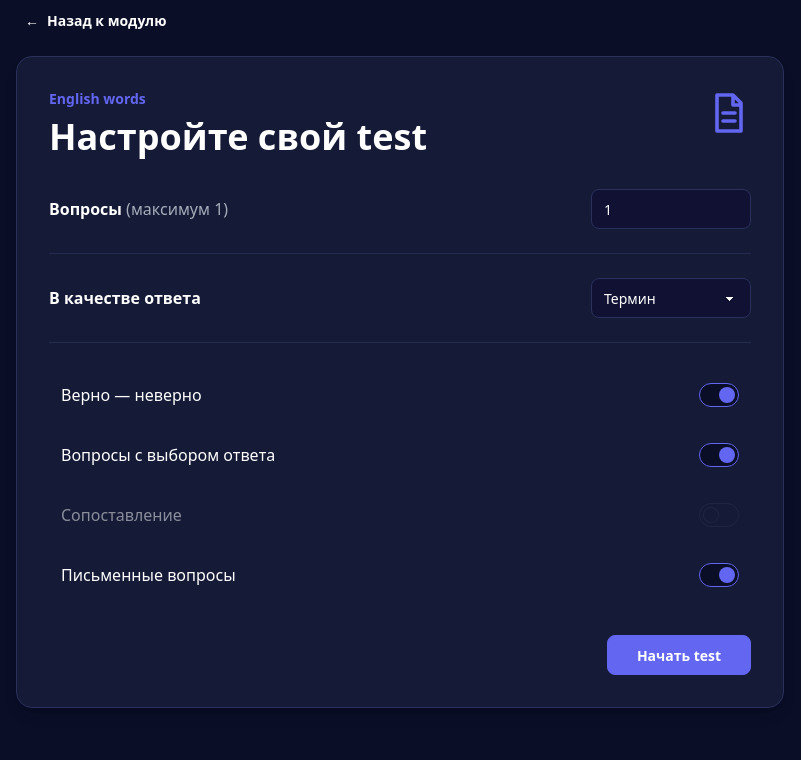
it: TestExercise › requires at least one enabled question type
The width and height of the screenshot is (801, 760).
Check: the heading "Настройте свой test" is shown, box [49, 117, 427, 157]
Click the checkbox labelled "Верно — неверно" at (719, 395), box [699, 383, 739, 407]
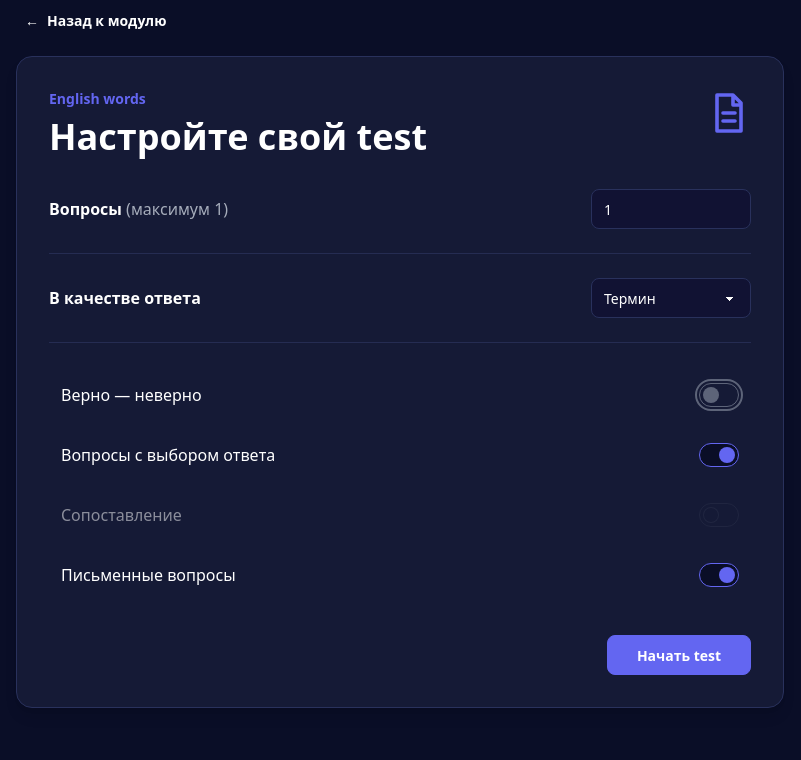
Click the checkbox labelled "Вопросы с выбором ответа" at (719, 455), box [699, 443, 739, 467]
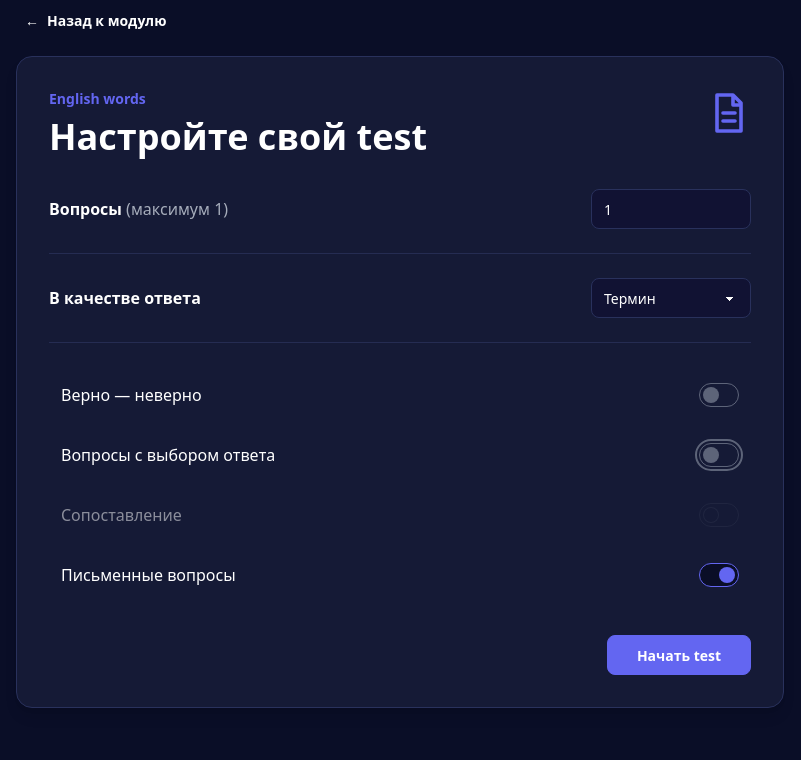
Click the checkbox labelled "Письменные вопросы" at (719, 575), box [699, 563, 739, 587]
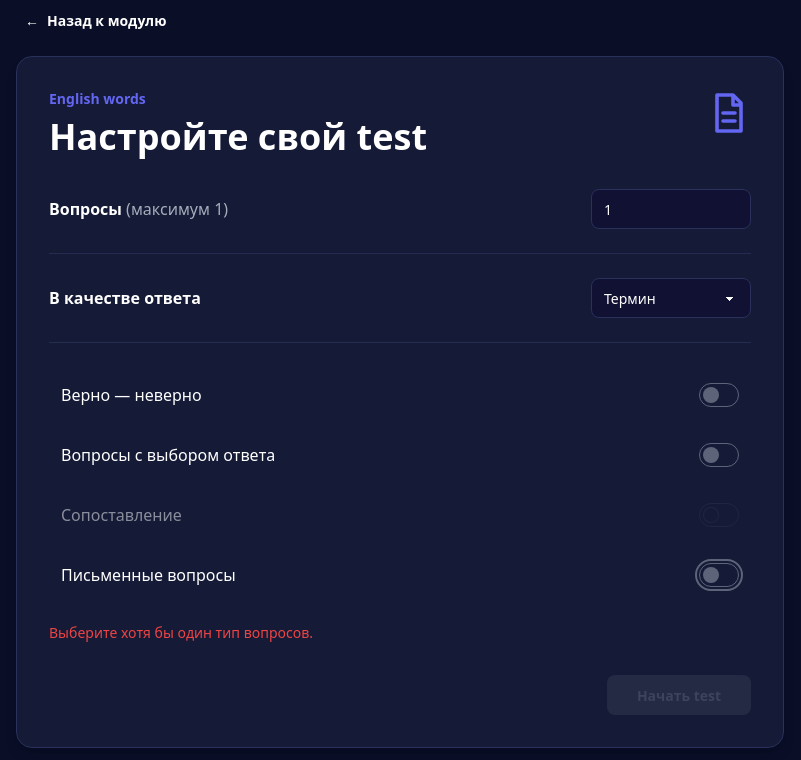
Check: the message shows "Выберите хотя бы один тип вопросов", box [49, 623, 313, 642]
Check: the button "Начать test" is disabled, box [607, 675, 751, 715]
